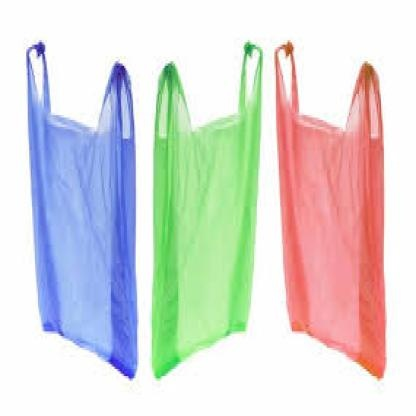trash: (275, 42, 385, 377), (152, 42, 262, 376), (27, 42, 136, 376)
